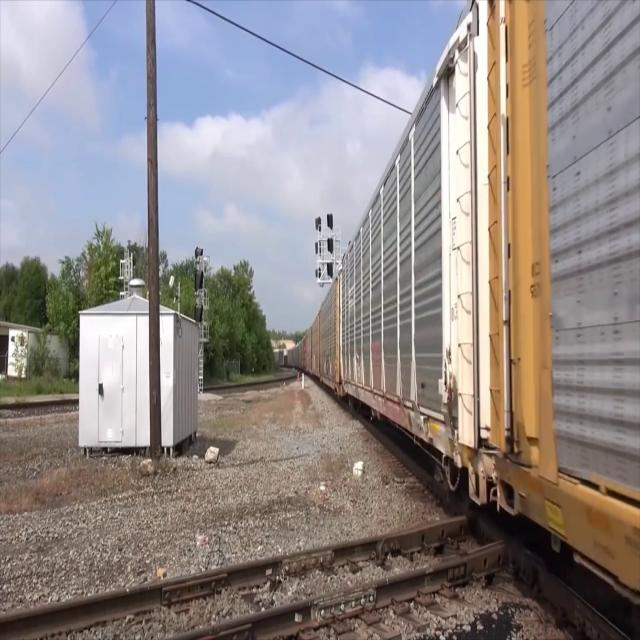autorack: (489, 0, 640, 615), (341, 0, 484, 525)
